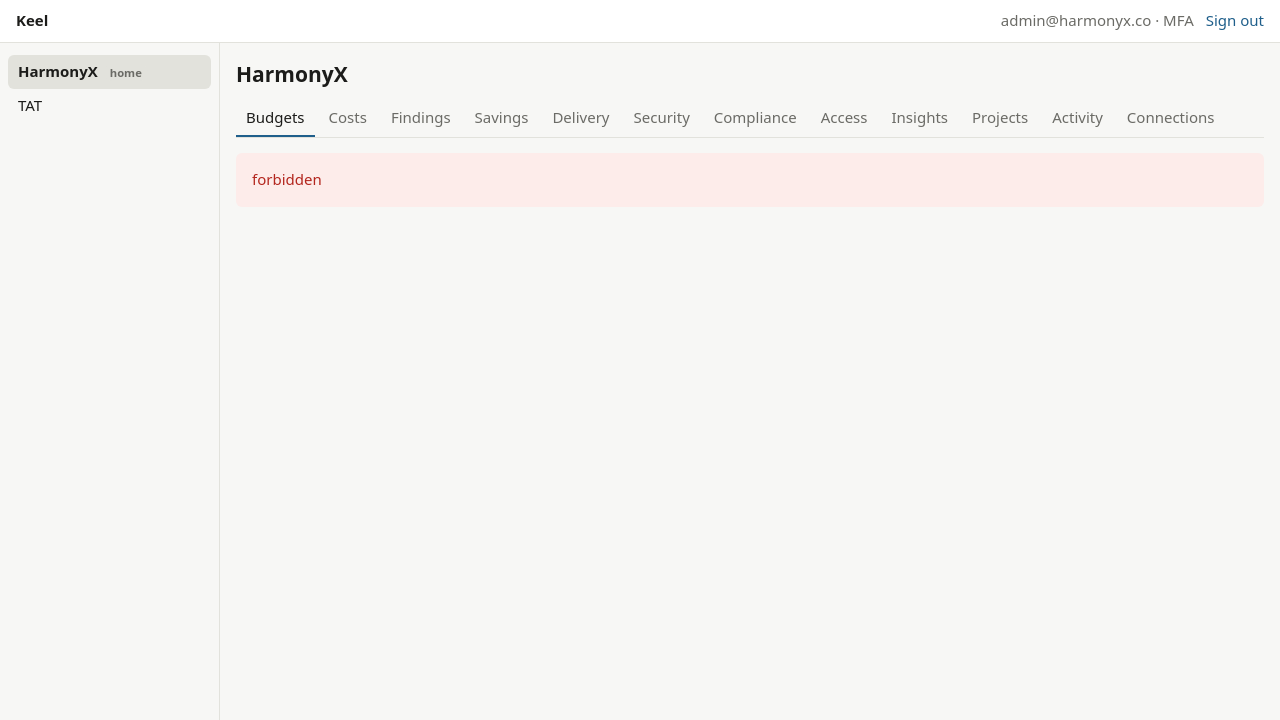
Scenario: portal › operator sees home and client tenants; client tree shows envs and accounts
The image size is (1280, 720).
Expected: the button "HarmonyX" is shown, [8,55,211,89]
Click the button "TAT" at [110, 105], box [8,88,211,122]
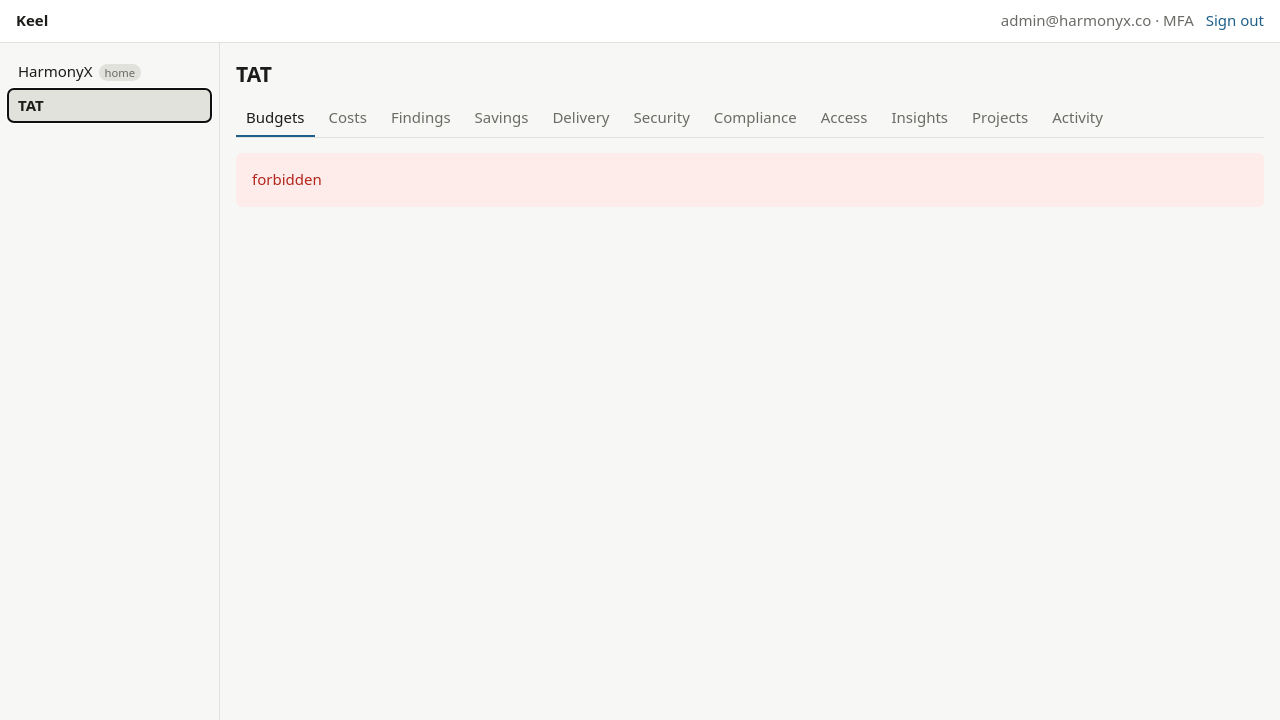
Click the tab "Projects" at [1000, 119], box [962,101,1038,137]
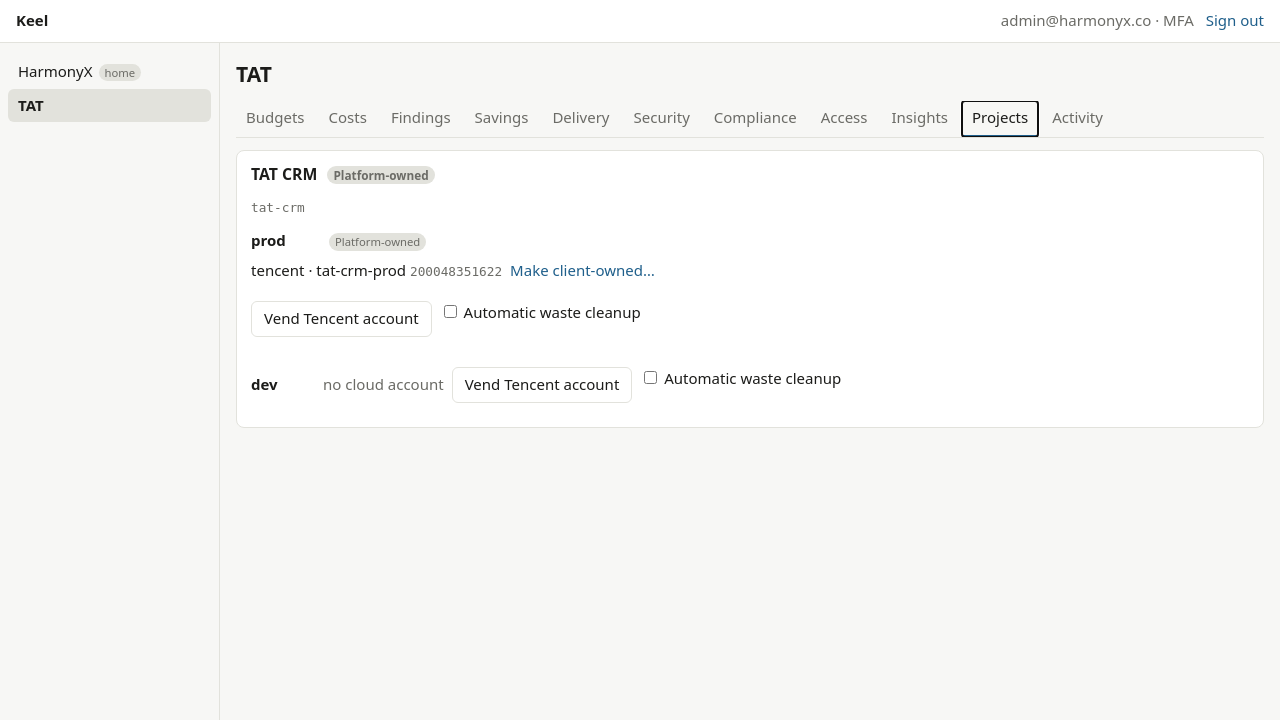
Now the heading "TAT CRM Platform-owned" is shown, box [251,163,435,185]
Now the text "tencent · tat-crm-prod 200048351622" is shown, box [251,260,502,281]
Now the text "no cloud account" is shown, box [323,374,444,396]
